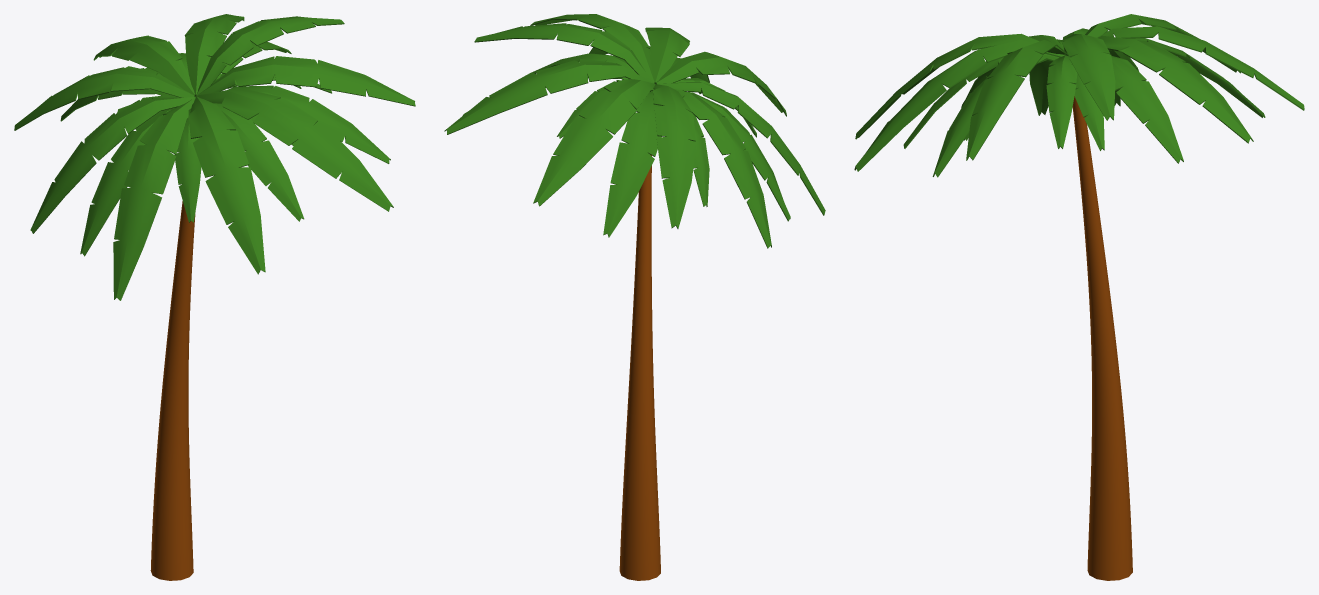
File: tree1.fbx
3 renders of one model, left to right at view 1: azimuth 30°, elevation 25°; view 2: azimuth 150°, elevation 25°; view 3: azimuth 270°, elevation 25°, orthographic. The views are drawn at different scales.
Visible parts, largest first — view 1: 葉子, 樹幹; view 2: 葉子, 樹幹; view 3: 葉子, 樹幹.
Boxes of the visible parts, left/top/right/bottom form: 葉子: left=14, top=14, right=415, bottom=300; 樹幹: left=150, top=201, right=195, bottom=580; 葉子: left=444, top=14, right=825, bottom=248; 樹幹: left=619, top=155, right=660, bottom=580; 葉子: left=854, top=14, right=1304, bottom=177; 樹幹: left=1072, top=96, right=1132, bottom=580.
Size of the model in its own units: 363 by 586 by 420.
